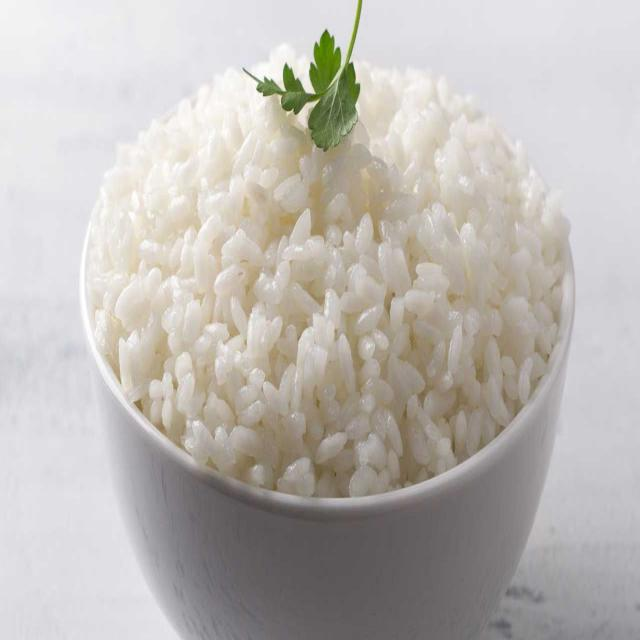arroz: (81, 14, 571, 524)
